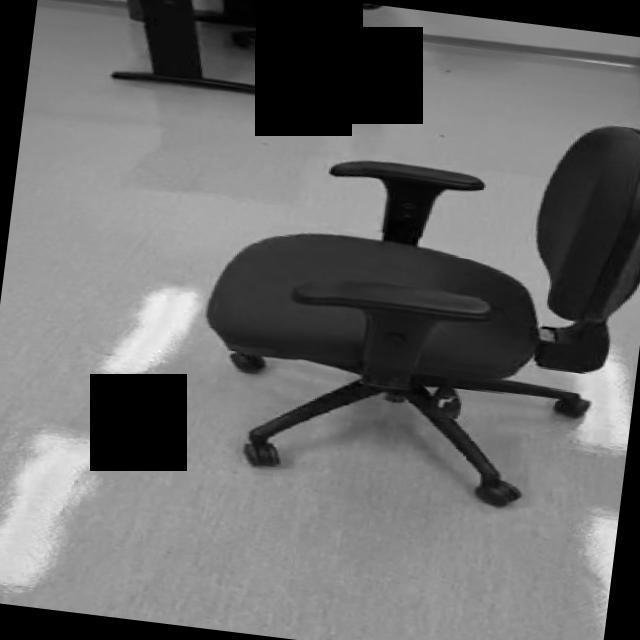chair: (183, 75, 640, 520)
